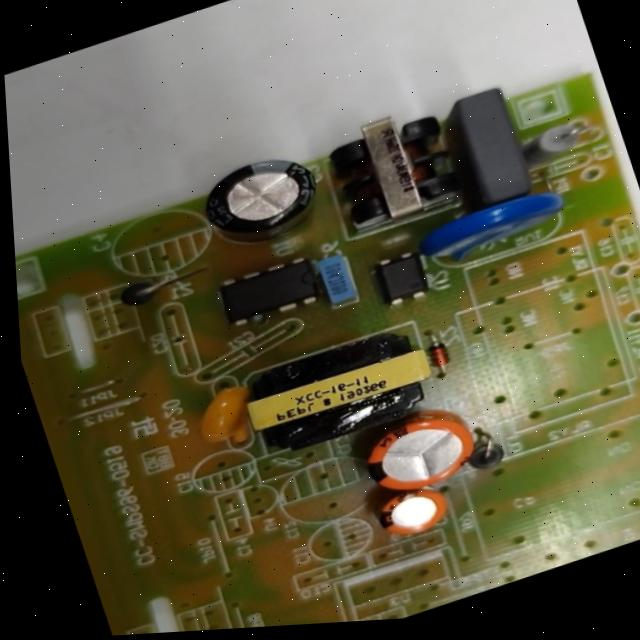Cap1: (356, 404, 487, 504)
Cap2: (373, 481, 453, 543)
Cap3: (203, 144, 329, 253)
MOSFET: (222, 253, 324, 327)
Mov: (423, 181, 572, 267)
Resistor: (518, 118, 592, 174)
Transformer: (238, 323, 435, 460), (319, 98, 464, 235)
